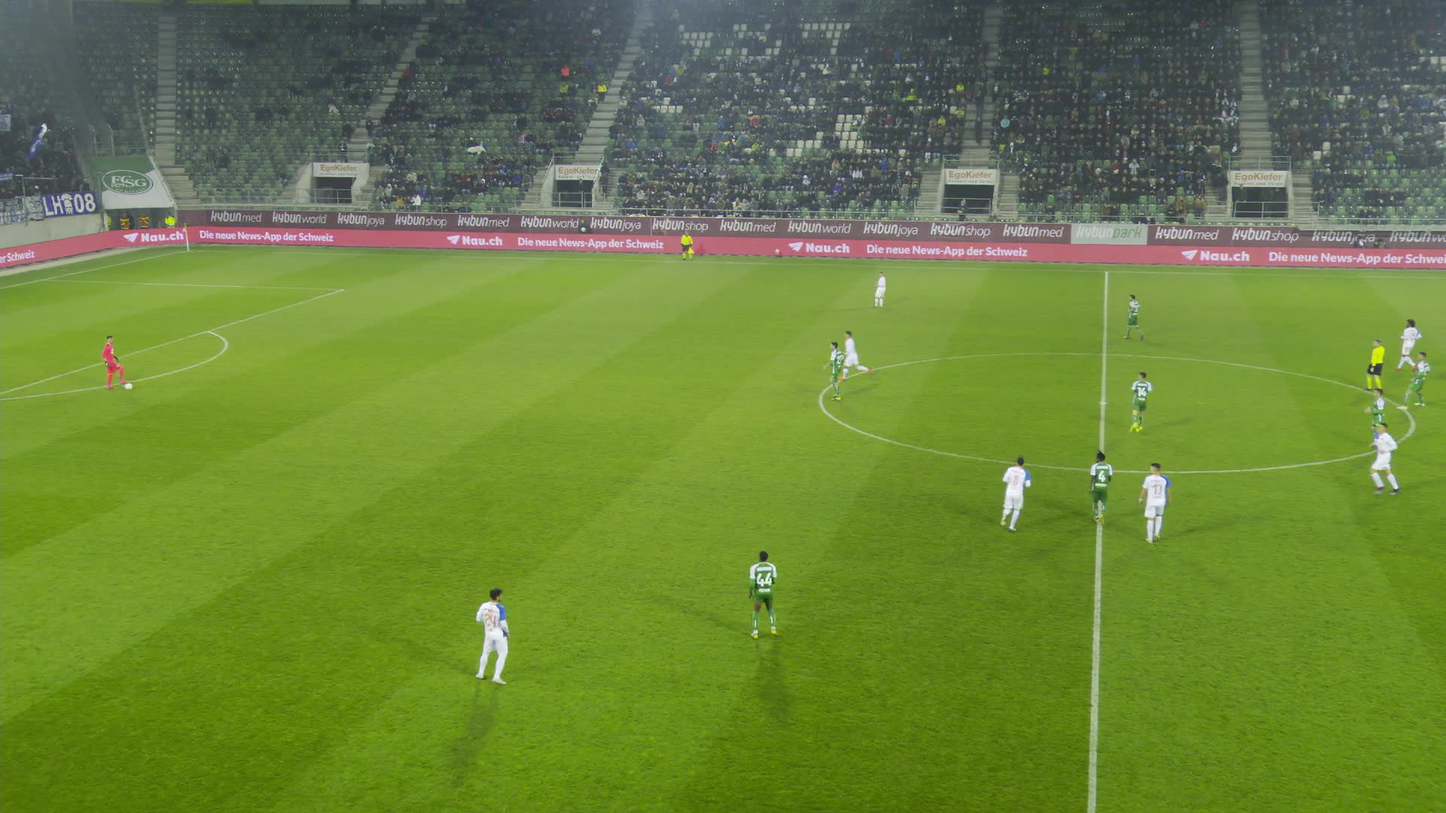ball: (126, 383, 132, 388)
player: (474, 586, 511, 683), (1140, 464, 1173, 547), (748, 550, 776, 640), (999, 455, 1030, 531), (1369, 422, 1401, 495), (1396, 352, 1429, 409), (1089, 449, 1114, 523), (837, 330, 871, 380), (101, 335, 129, 390), (1364, 385, 1387, 451), (1395, 318, 1423, 370), (1128, 371, 1151, 431), (824, 342, 847, 400), (1124, 294, 1144, 340), (874, 272, 887, 306)
referee: (1362, 339, 1384, 391), (680, 230, 694, 260)
